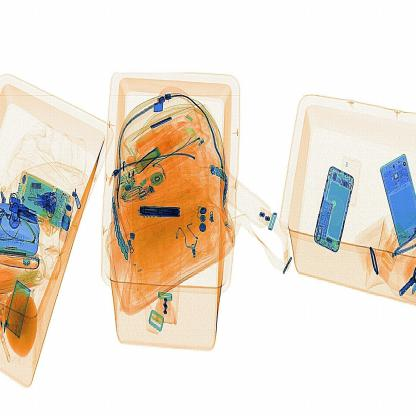scissors: (138, 203, 184, 223)
